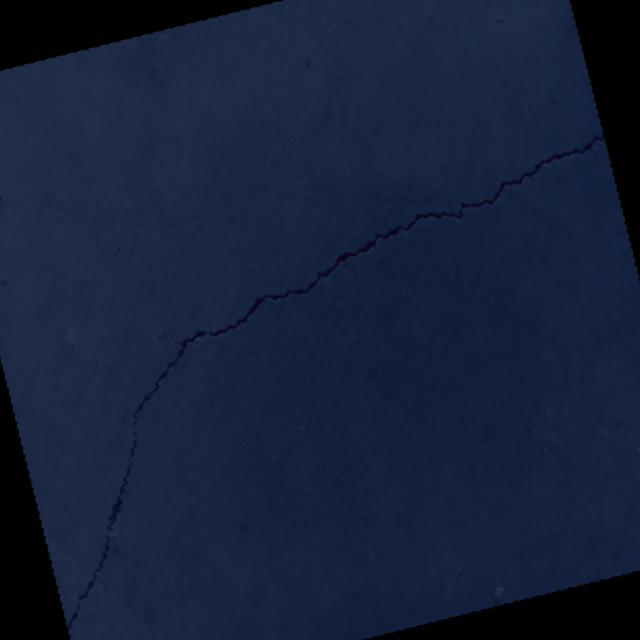crack: (0, 131, 640, 632)
